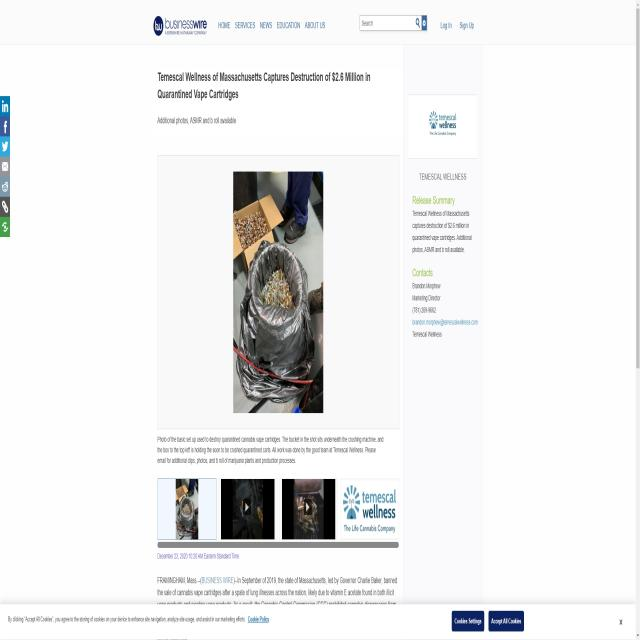menu-bar: (216, 16, 328, 43)
search: (358, 15, 427, 30)
side-panel: (408, 77, 488, 358)
